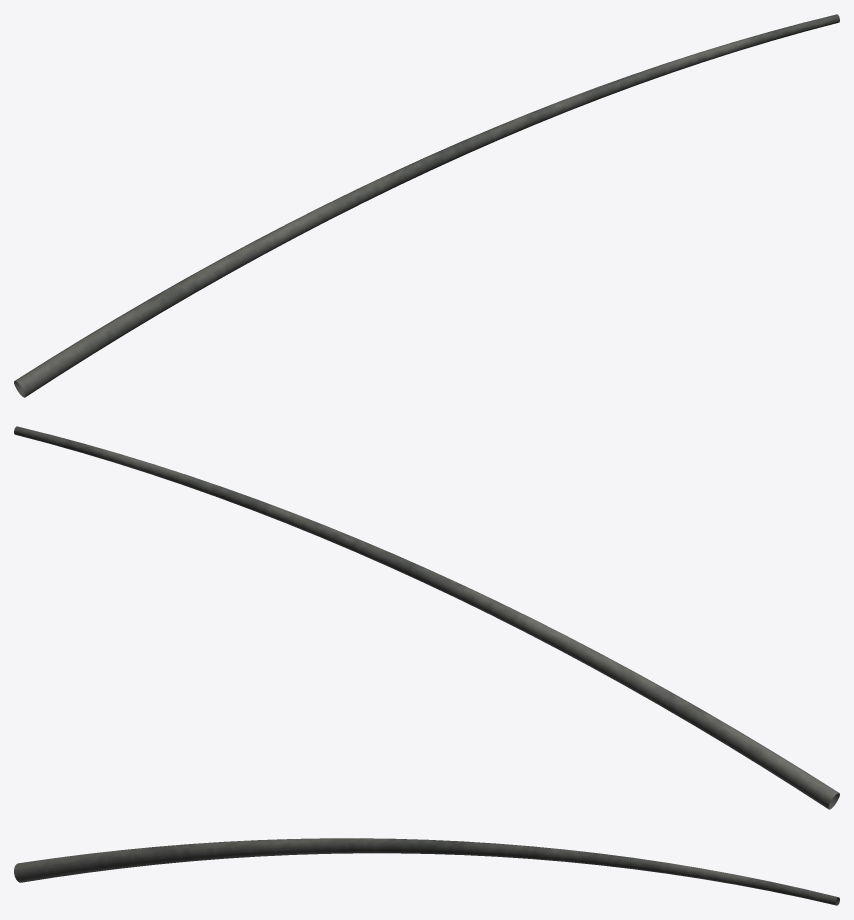
The model's file is armRise4-v1.glb.
3 renders of one model, top to bottom at view 1: azimuth 30°, elevation 25°; view 2: azimuth 150°, elevation 25°; view 3: azimuth 330°, elevation 25°, orthographic.
Visible parts, largest first — view 1: armRise4-v1; view 2: armRise4-v1; view 3: armRise4-v1.
Boxes of the visible parts, x1,y1,x2,y2 form: armRise4-v1: (14, 14, 839, 397); armRise4-v1: (14, 426, 839, 809); armRise4-v1: (14, 838, 839, 905).
Size of the model in its own units: 10.71 by 2.29 by 0.2223.
1 material, 1 textured.
